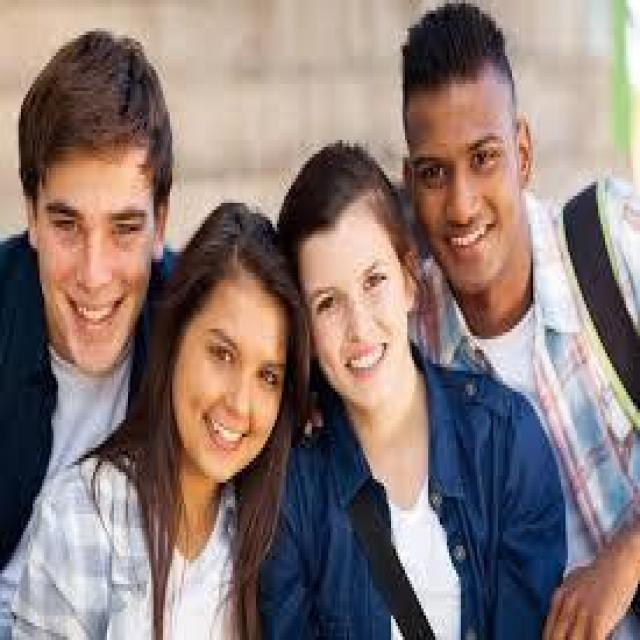person: (377, 4, 638, 605), (265, 133, 510, 636), (2, 4, 180, 549), (137, 182, 300, 636)
